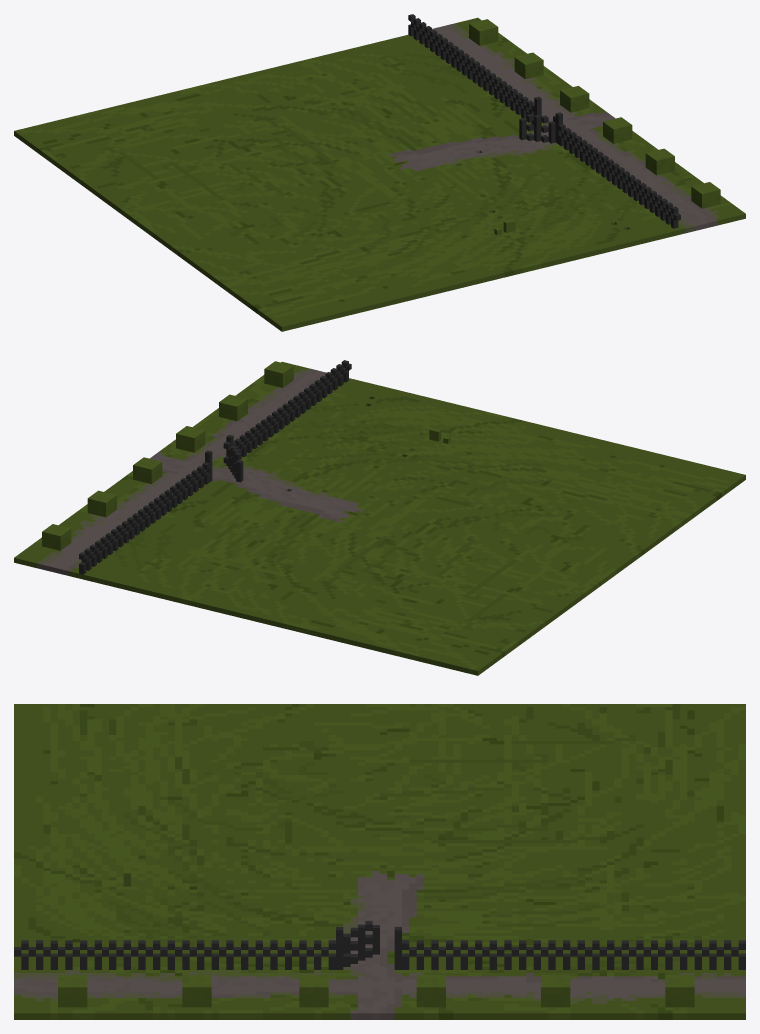
The model's file is FlatFence.obj.
3 renders of one model, top to bottom at view 1: azimuth 30°, elevation 25°; view 2: azimuth 150°, elevation 25°; view 3: azimuth 270°, elevation 25°, orthographic. The views are drawn at different scales.
Bounding box in the file's own units: 10 × 0.7 × 10.
1 material, 1 textured.
